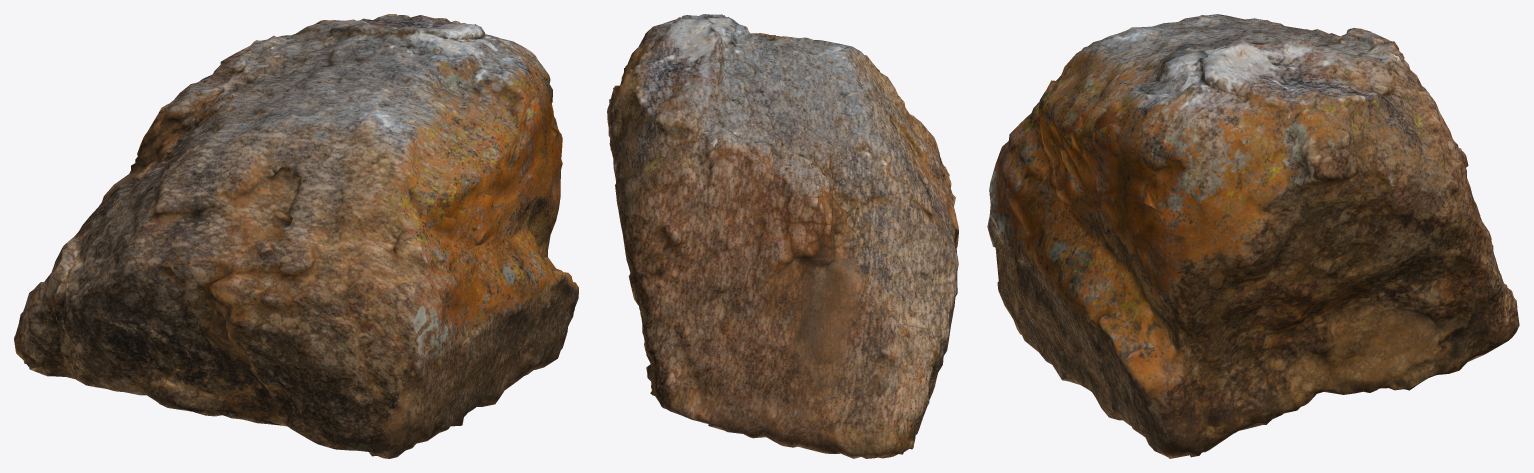
File: namaqualand_boulder_04_leve.gltf
The picture shows the model from 3 angles, left to right: view 1: azimuth 30°, elevation 25°; view 2: azimuth 150°, elevation 25°; view 3: azimuth 270°, elevation 25°; orthographic projection. The views are drawn at different scales.
Visible parts, largest first — view 1: boulder_04; view 2: boulder_04; view 3: boulder_04.
Part boxes in pixels (<box>): boulder_04: <box>14,14,578,458</box>; boulder_04: <box>607,14,958,458</box>; boulder_04: <box>987,14,1519,458</box>.
Size of the model in its own units: 2.52 by 1.9 by 2.49.
1 material, 1 textured.
